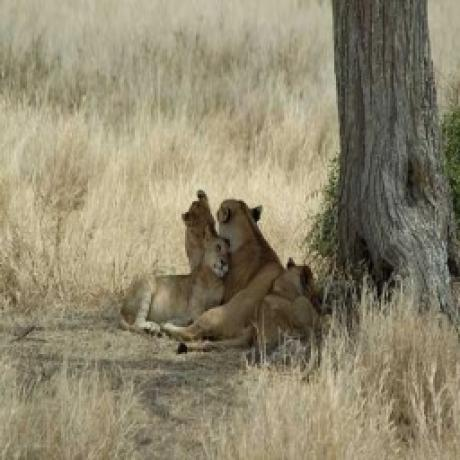Lion: (213, 194, 315, 357), (117, 230, 230, 334), (179, 184, 219, 276)
